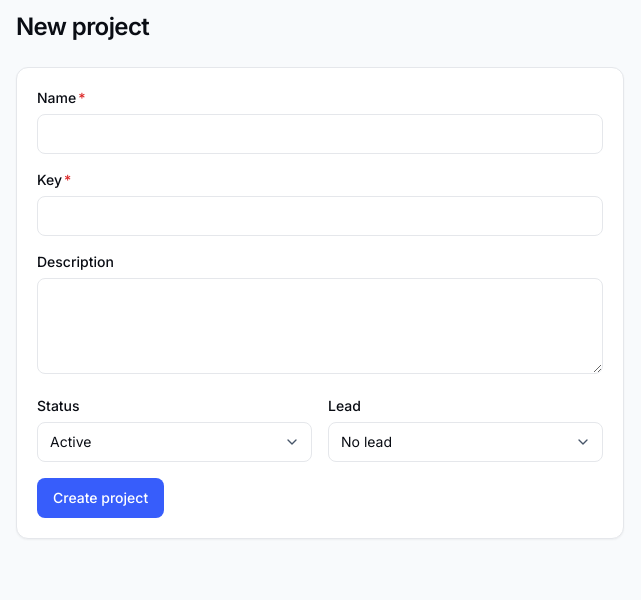
Test: NewProjectPage › shows validation errors for an empty submission
Click the button "Create project".
click(101, 498)  # box [37, 478, 164, 518]
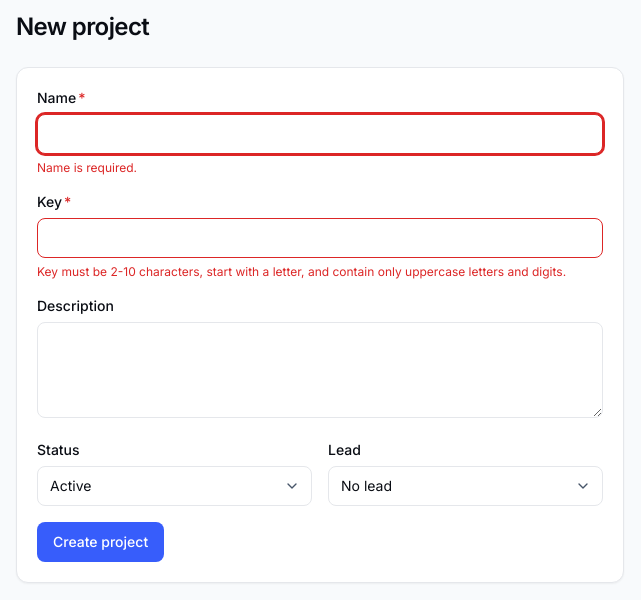
Expected: the text "Name is required." is shown, [37, 160, 137, 175]
